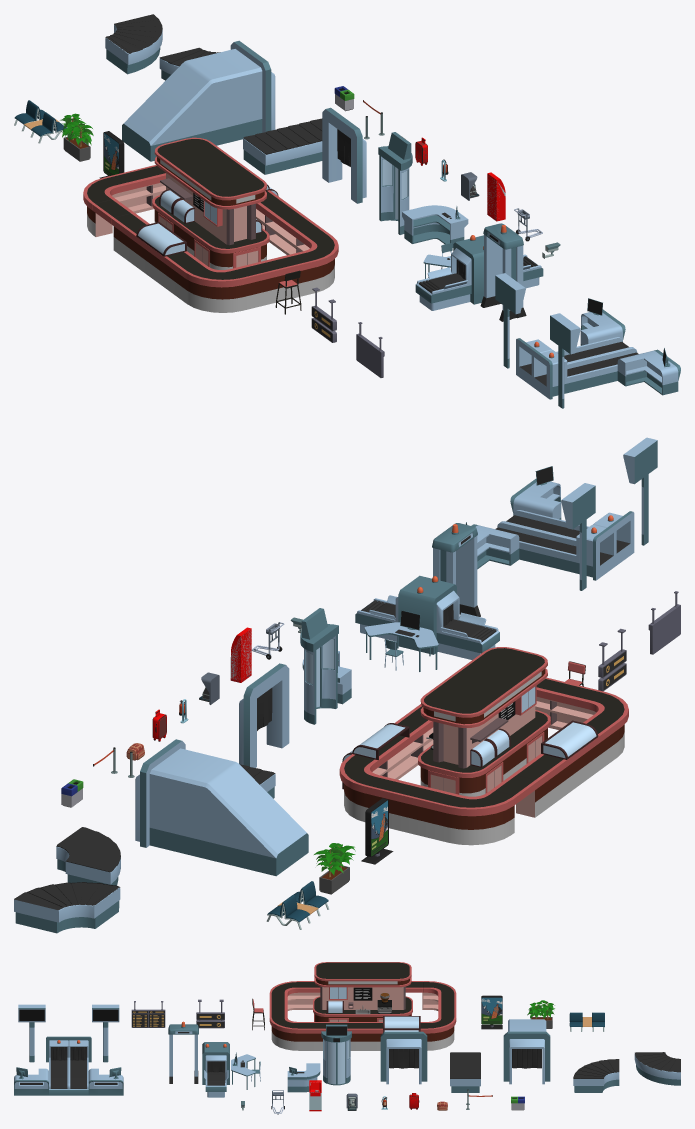
Rendered from Airport_InsideBuildingPack.fbx.
3 renders of one model, top to bottom at view 1: azimuth 30°, elevation 25°; view 2: azimuth 150°, elevation 25°; view 3: azimuth 270°, elevation 25°, orthographic. The views are drawn at different scales.
Parts seen in each view (by area): view 1: 13.Cafe, 12.3.BaggageClaimBand, 08.CheckInDesk, 09.SecurityCheck, 11.BoardingAreaDesk, 12.2.BaggageClaimBand, 12.1.BaggageClaimBand, 12.5.BaggageClaimBand, 17.10.Model, 10.Chairs, 16.DepartureSign, 15.Advertising (+3 smaller); view 2: 13.Cafe, 12.3.BaggageClaimBand, 08.CheckInDesk, 09.SecurityCheck, 12.5.BaggageClaimBand, 11.BoardingAreaDesk, 12.1.BaggageClaimBand, 12.4.BaggageClaimBand, 15.Advertising, 17.10.Model, 10.Chairs, 16.DepartureSign (+2 smaller); view 3: 13.Cafe, 08.CheckInDesk, 09.SecurityCheck, 12.3.BaggageClaimBand, 11.BoardingAreaDesk, 12.1.BaggageClaimBand, 12.4.BaggageClaimBand, 12.5.BaggageClaimBand, 12.2.BaggageClaimBand, 15.Advertising, 16.DepartureSign, 17.1.Model (+2 smaller).
Part boxes in pixels (x1=…): 13.Cafe: x1=83, y1=137, x2=338, y2=314; 12.3.BaggageClaimBand: x1=122, y1=40, x2=275, y2=161; 08.CheckInDesk: x1=495, y1=273, x2=680, y2=408; 09.SecurityCheck: x1=415, y1=223, x2=543, y2=321; 11.BoardingAreaDesk: x1=378, y1=132, x2=468, y2=247; 12.2.BaggageClaimBand: x1=243, y1=118, x2=322, y2=174; 12.1.BaggageClaimBand: x1=322, y1=107, x2=366, y2=203; 12.5.BaggageClaimBand: x1=105, y1=14, x2=162, y2=74; 17.10.Model: x1=60, y1=113, x2=93, y2=161; 10.Chairs: x1=14, y1=100, x2=67, y2=143; 16.DepartureSign: x1=356, y1=322, x2=384, y2=377; 15.Advertising: x1=99, y1=131, x2=124, y2=178; 13.Cafe: x1=339, y1=647, x2=628, y2=845; 12.3.BaggageClaimBand: x1=135, y1=739, x2=308, y2=876; 08.CheckInDesk: x1=465, y1=437, x2=657, y2=590; 09.SecurityCheck: x1=355, y1=523, x2=499, y2=671; 12.5.BaggageClaimBand: x1=14, y1=882, x2=120, y2=933; 11.BoardingAreaDesk: x1=300, y1=608, x2=351, y2=724; 12.1.BaggageClaimBand: x1=239, y1=663, x2=289, y2=767; 12.4.BaggageClaimBand: x1=56, y1=827, x2=120, y2=885; 15.Advertising: x1=361, y1=798, x2=393, y2=864; 17.10.Model: x1=314, y1=843, x2=355, y2=894; 10.Chairs: x1=266, y1=881, x2=329, y2=929; 16.DepartureSign: x1=648, y1=591, x2=680, y2=654; 13.Cafe: x1=252, y1=962, x2=456, y2=1050; 08.CheckInDesk: x1=14, y1=1004, x2=123, y2=1095; 09.SecurityCheck: x1=168, y1=1021, x2=260, y2=1097; 12.3.BaggageClaimBand: x1=503, y1=1019, x2=550, y2=1084; 11.BoardingAreaDesk: x1=287, y1=1024, x2=351, y2=1092; 12.1.BaggageClaimBand: x1=380, y1=1031, x2=427, y2=1084; 12.4.BaggageClaimBand: x1=573, y1=1059, x2=619, y2=1092; 12.5.BaggageClaimBand: x1=634, y1=1052, x2=680, y2=1085; 12.2.BaggageClaimBand: x1=450, y1=1052, x2=480, y2=1092; 15.Advertising: x1=481, y1=995, x2=502, y2=1029; 16.DepartureSign: x1=131, y1=1001, x2=165, y2=1027; 17.1.Model: x1=196, y1=999, x2=224, y2=1028.
Size of what is drawn, in the model's own units: 1504 by 366 by 3792.
Materials: 2 (1 with a texture image).
